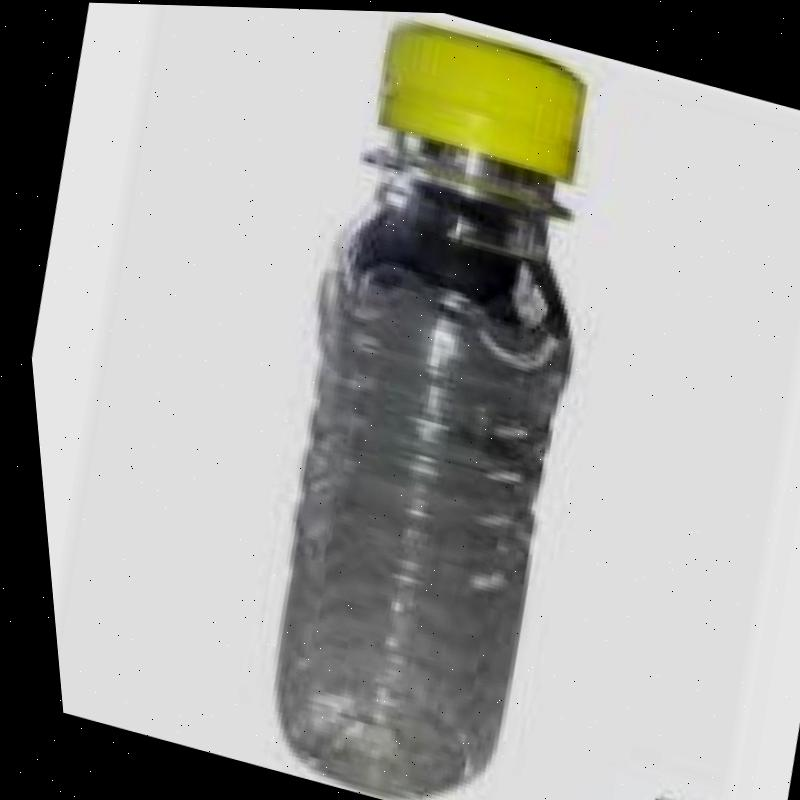botella: (173, 4, 668, 800)
